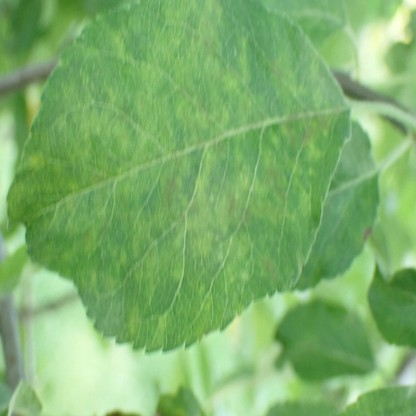scab: (12, 2, 331, 337)
